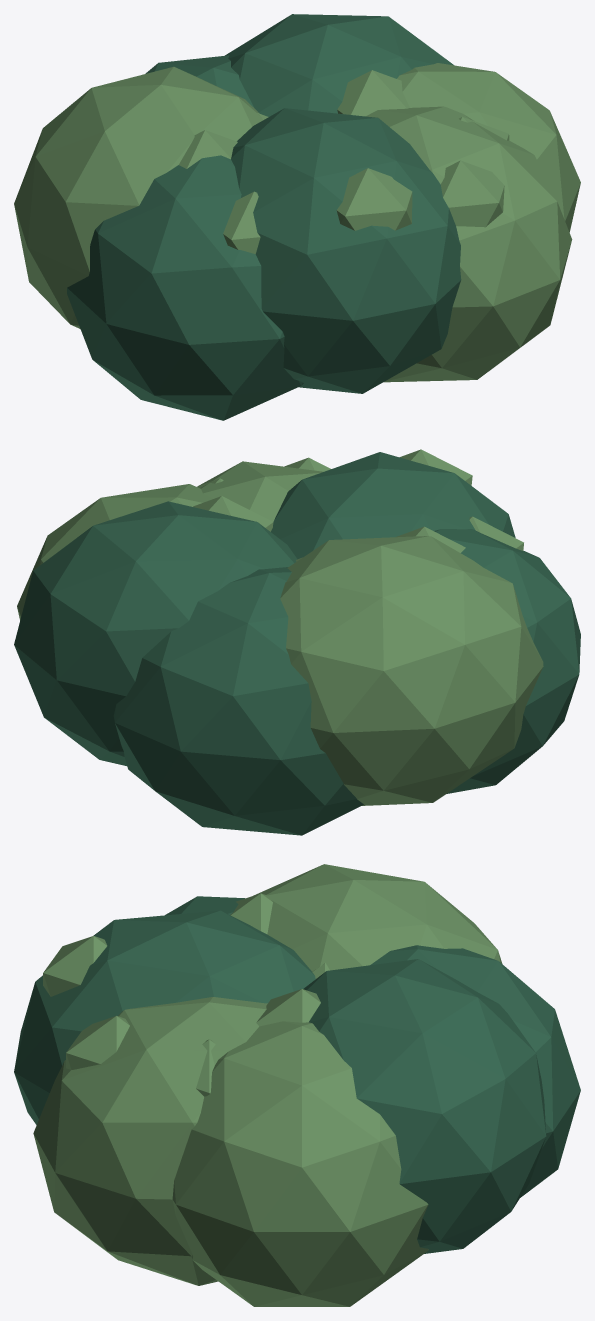
The model's file is PirateCove_Bush_Showcase.glb.
The picture shows the model from 3 angles, top to bottom: view 1: azimuth 30°, elevation 25°; view 2: azimuth 150°, elevation 25°; view 3: azimuth 270°, elevation 25°; orthographic projection. The views are drawn at different scales.
Parts seen in each view (by area): view 1: PirateCove_Bush_Showcase; view 2: PirateCove_Bush_Showcase; view 3: PirateCove_Bush_Showcase.
Boxes of the visible parts, box(x1,y1,x2,y2) form: PirateCove_Bush_Showcase: box(14, 14, 580, 420); PirateCove_Bush_Showcase: box(14, 449, 580, 835); PirateCove_Bush_Showcase: box(14, 864, 580, 1306).
Bounding box in the file's own units: 1.66 × 0.88 × 1.53.
